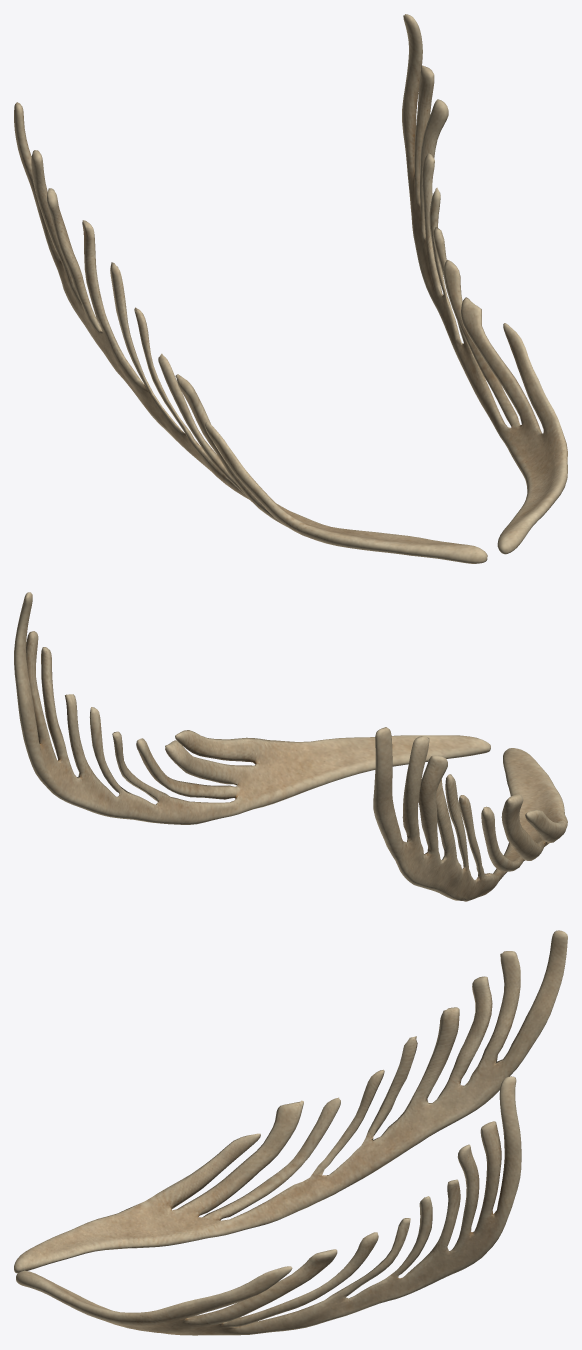
The model's file is Rib_Cartilage2.glb.
3 renders of one model, top to bottom at view 1: azimuth 30°, elevation 25°; view 2: azimuth 150°, elevation 25°; view 3: azimuth 270°, elevation 25°, orthographic. The views are drawn at different scales.
Parts seen in each view (by area): view 1: RibCartilage3_low; view 2: RibCartilage3_low; view 3: RibCartilage3_low.
Boxes of the visible parts, box(x1,y1,x2,y2) form: RibCartilage3_low: box(14, 14, 567, 563); RibCartilage3_low: box(14, 592, 567, 901); RibCartilage3_low: box(14, 930, 567, 1335).
Size of the model in its own units: 0.4555 by 0.3513 by 0.6038.
Materials: 1 (1 with a texture image).
